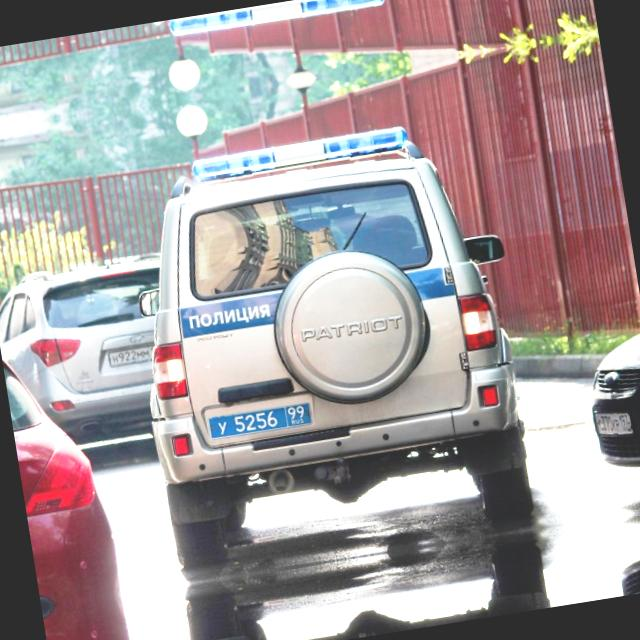police: (207, 400, 315, 441)
